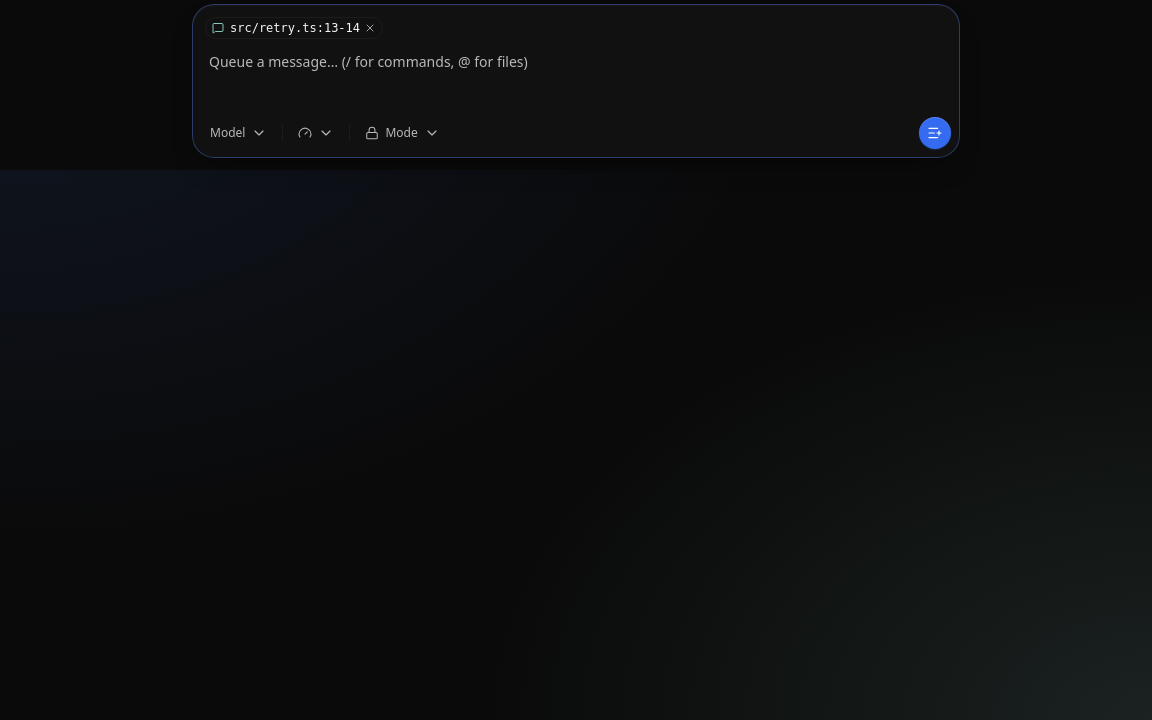
Composer diff comments › shows a chip per comment and sends them ahead of the text
The image size is (1152, 720).
Expected: the list item with test id "diff-comment-chip" reads "src/retry.ts:13-14", [206,18,360,38]
In the dropdown labelled "message": (576, 78) [193,39,959,117], type "then rerun"
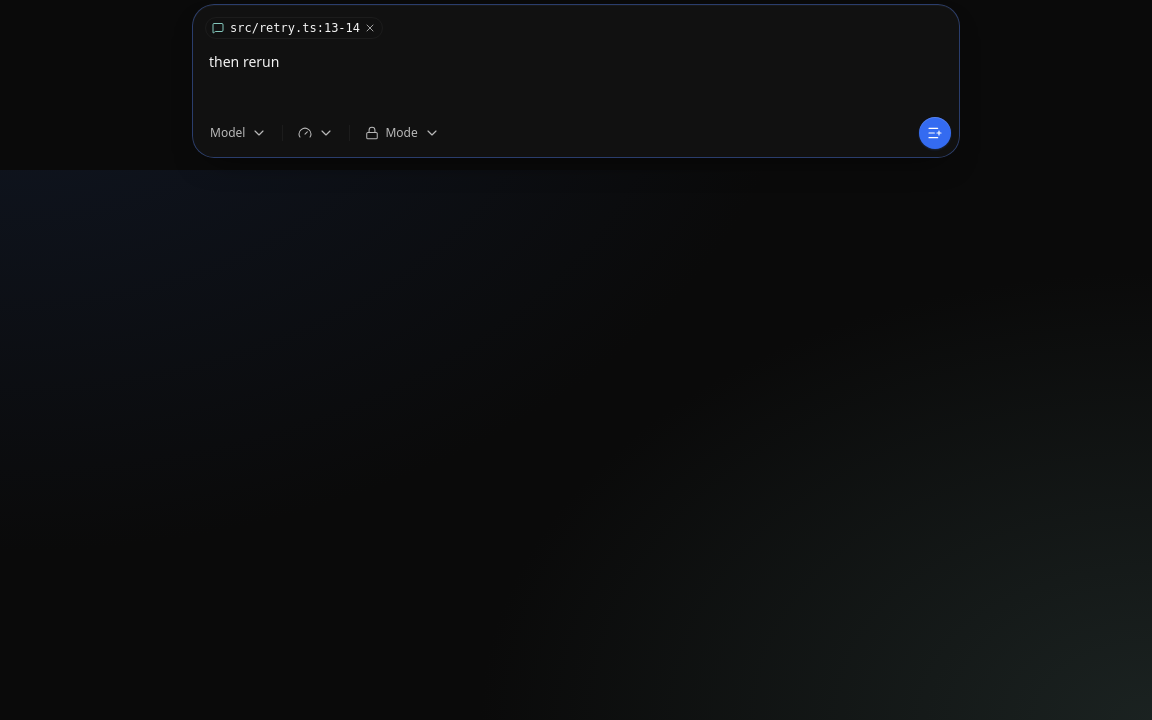
Click the button named "Queue": (935, 133) [919,117,951,149]
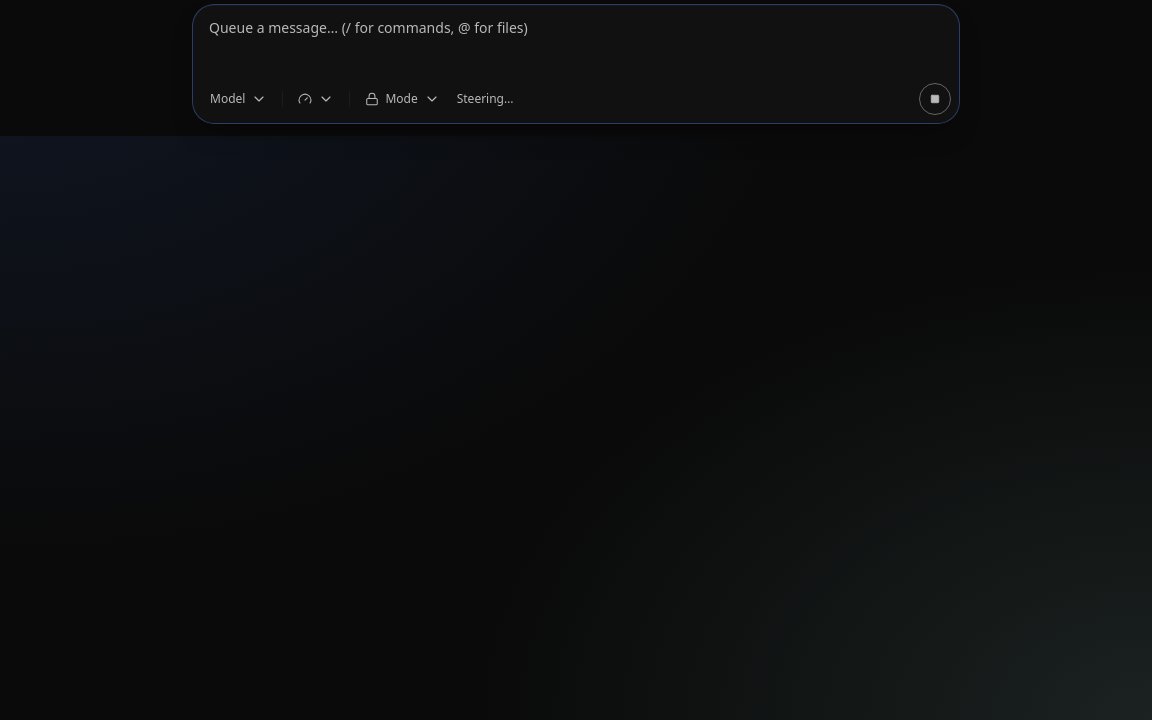
Now the list item with test id "diff-comment-chip" is gone
